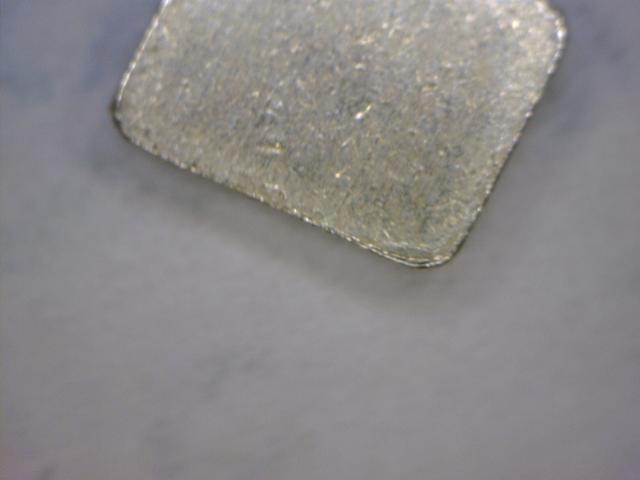ok: (96, 1, 575, 280)
